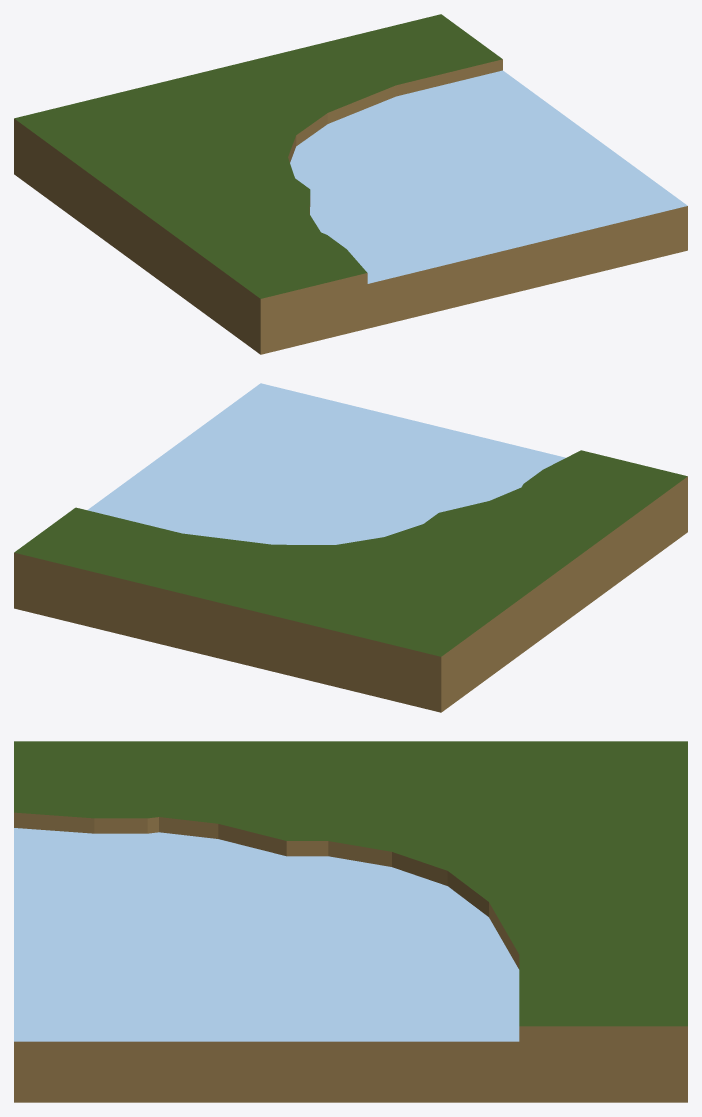
Rendered from Terrain_Tile_Grass_Dirt_Water_Bank_Corner_03.fbx.
3 renders of one model, top to bottom at view 1: azimuth 30°, elevation 25°; view 2: azimuth 150°, elevation 25°; view 3: azimuth 270°, elevation 25°, orthographic. The views are drawn at different scales.
Visible parts, largest first — view 1: Terrain_Tile_Grass_Dirt_Water_Bank_Corner_03; view 2: Terrain_Tile_Grass_Dirt_Water_Bank_Corner_03; view 3: Terrain_Tile_Grass_Dirt_Water_Bank_Corner_03.
Part boxes in pixels (x1,y1,x2,y2): Terrain_Tile_Grass_Dirt_Water_Bank_Corner_03: (14,14,687,354); Terrain_Tile_Grass_Dirt_Water_Bank_Corner_03: (14,383,687,712); Terrain_Tile_Grass_Dirt_Water_Bank_Corner_03: (14,741,687,1102).
Bounding box in the file's own units: 126 × 15.75 × 126.
